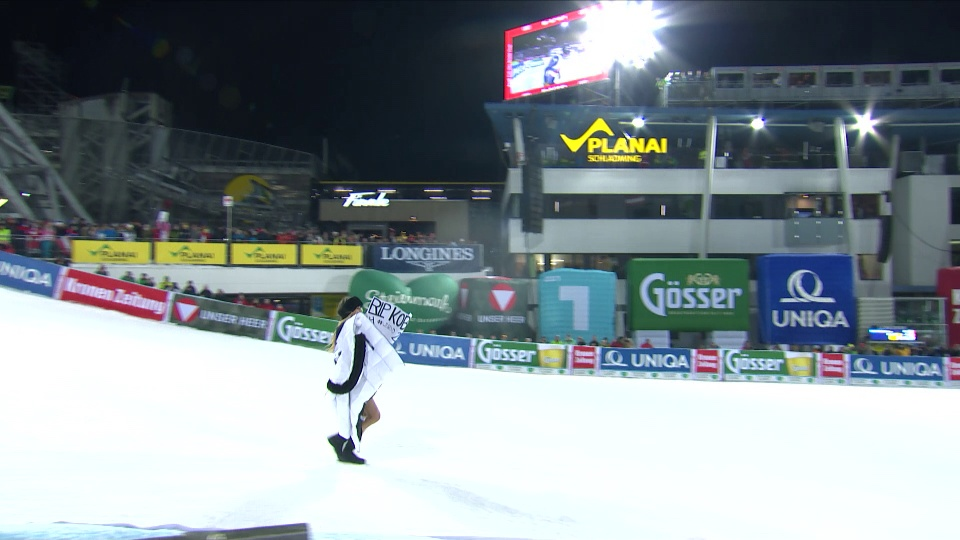goesser: (636, 265, 757, 323), (279, 314, 341, 351), (478, 342, 554, 371), (731, 353, 797, 378)
kronenzeitung: (71, 276, 164, 322), (697, 350, 723, 377), (574, 348, 598, 373), (823, 355, 847, 380)
longines: (377, 244, 487, 274)
steiermark: (388, 283, 455, 326)
uniqa: (765, 261, 858, 334), (855, 358, 944, 384), (377, 338, 466, 364), (605, 350, 691, 376)
unserheer: (175, 295, 263, 341), (460, 280, 522, 322)
